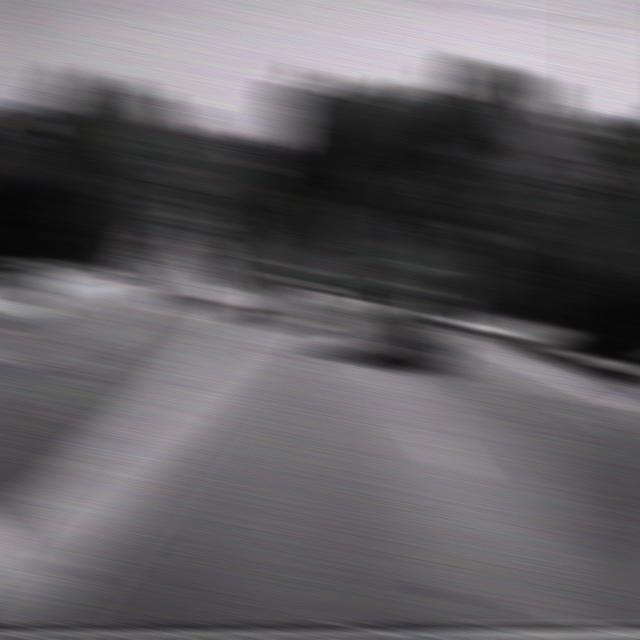speedLimit25: (566, 122, 620, 197), (151, 144, 204, 218)
